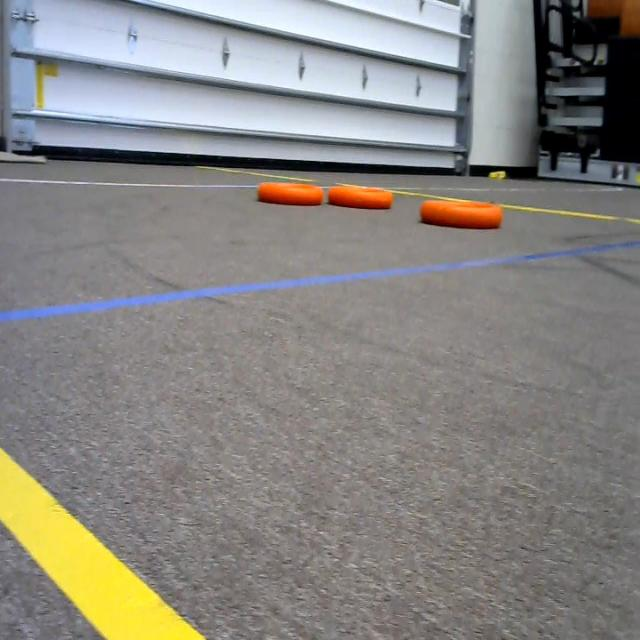note: (421, 188, 509, 234), (255, 170, 325, 214), (326, 178, 402, 215)
